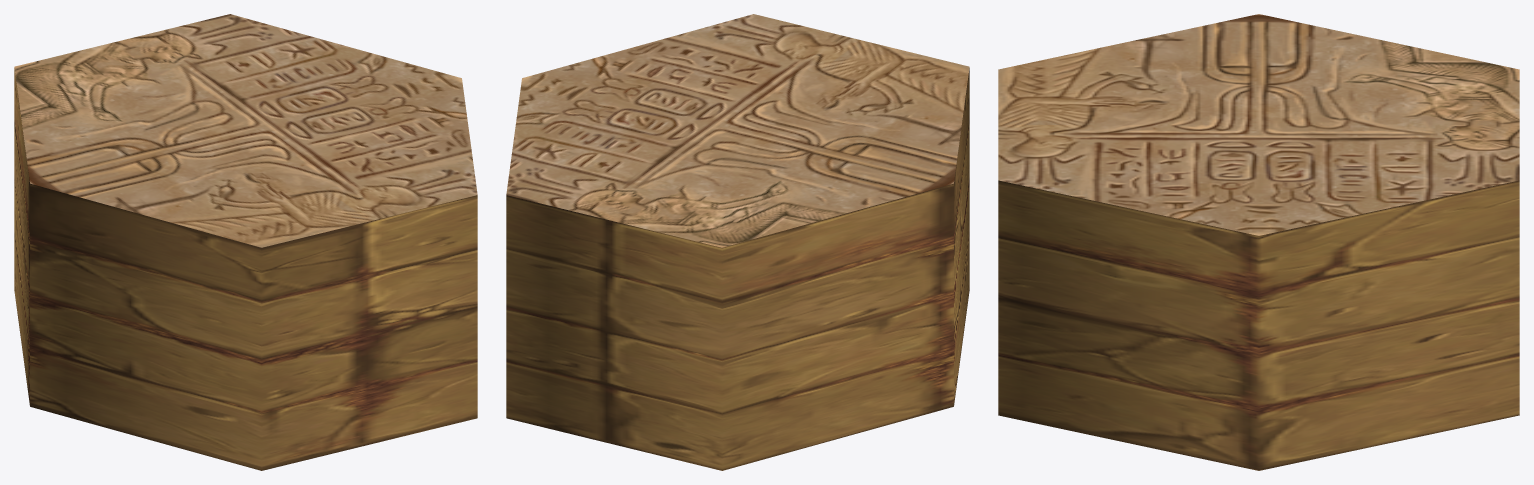
The model's file is 普通格子1.FBX.
3 renders of one model, left to right at view 1: azimuth 30°, elevation 25°; view 2: azimuth 150°, elevation 25°; view 3: azimuth 270°, elevation 25°, orthographic. The views are drawn at different scales.
Visible parts, largest first — view 1: 对象002, Cylinder001; view 2: 对象002, Cylinder001; view 3: 对象002, Cylinder001.
Boxes of the visible parts, box(x1,y1,x2,y2) form: 对象002: box(14, 68, 477, 470); Cylinder001: box(14, 14, 477, 247); 对象002: box(506, 68, 969, 470); Cylinder001: box(506, 14, 969, 247); 对象002: box(998, 180, 1519, 470); Cylinder001: box(998, 14, 1519, 235).
Size of the model in its own units: 121 by 59.57 by 120.
